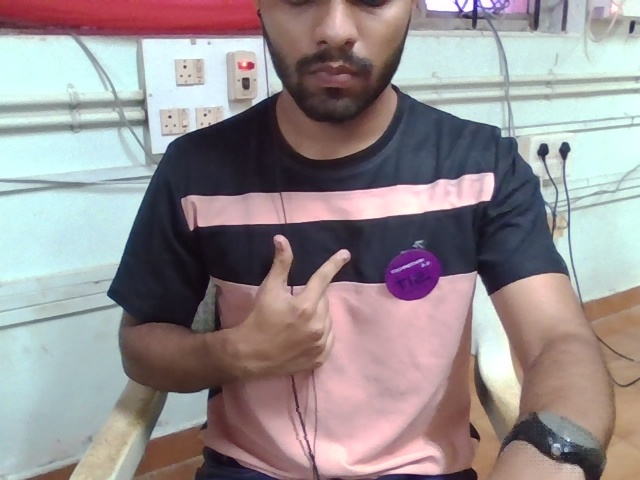my turn: (236, 222, 393, 402)
